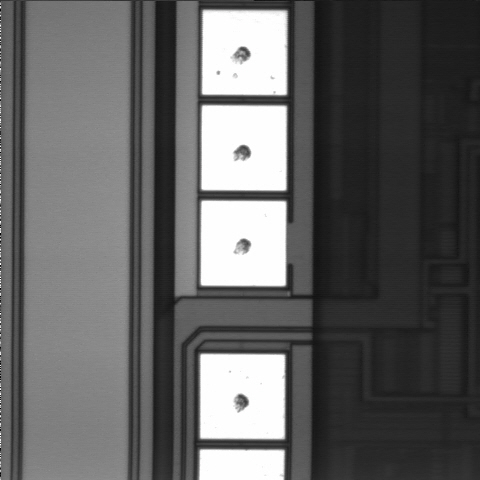pad: (202, 10, 287, 95), (201, 201, 286, 286), (200, 354, 285, 439), (202, 105, 286, 190)
